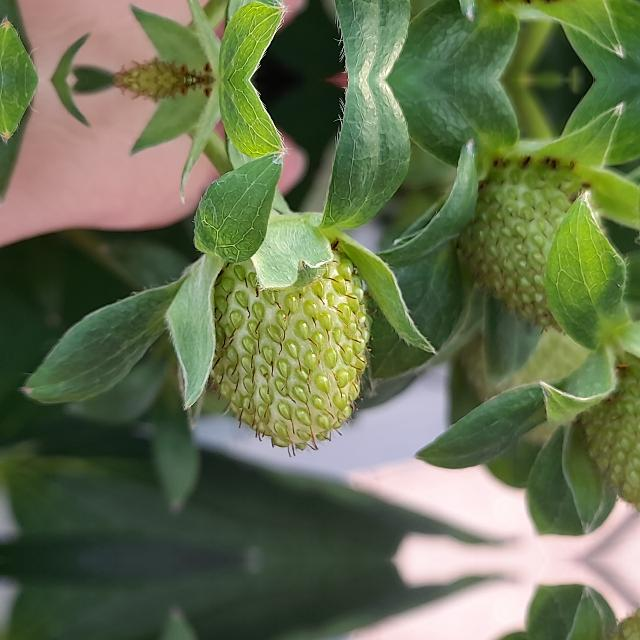Health_25: (206, 226, 377, 456)
